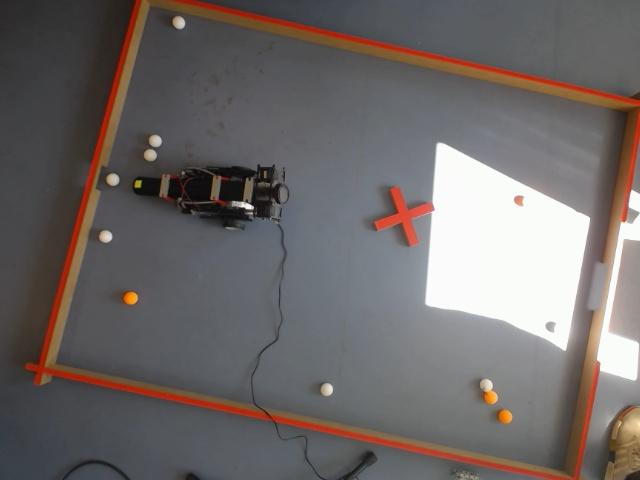orange: (121, 291, 140, 307), (498, 408, 514, 424), (483, 389, 498, 404)
robot: (132, 164, 289, 230)
robot-front: (133, 177, 156, 195)
white: (97, 229, 114, 245), (105, 172, 121, 188), (318, 382, 334, 397), (172, 14, 186, 31), (479, 378, 494, 392), (148, 134, 162, 148), (144, 149, 157, 162)
